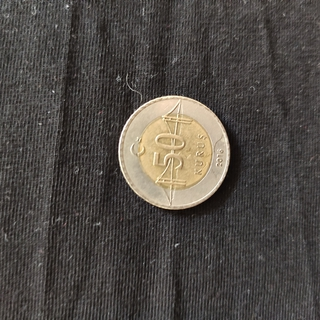50KURUS: (116, 94, 233, 210)
